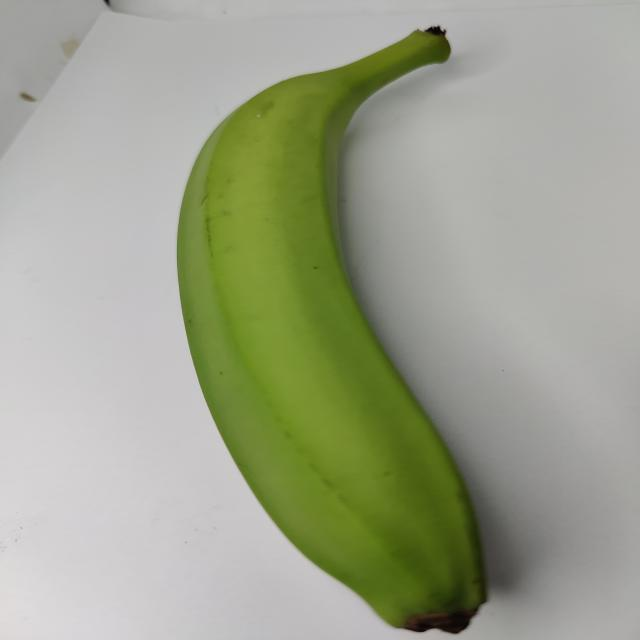raw: (154, 31, 560, 638)
